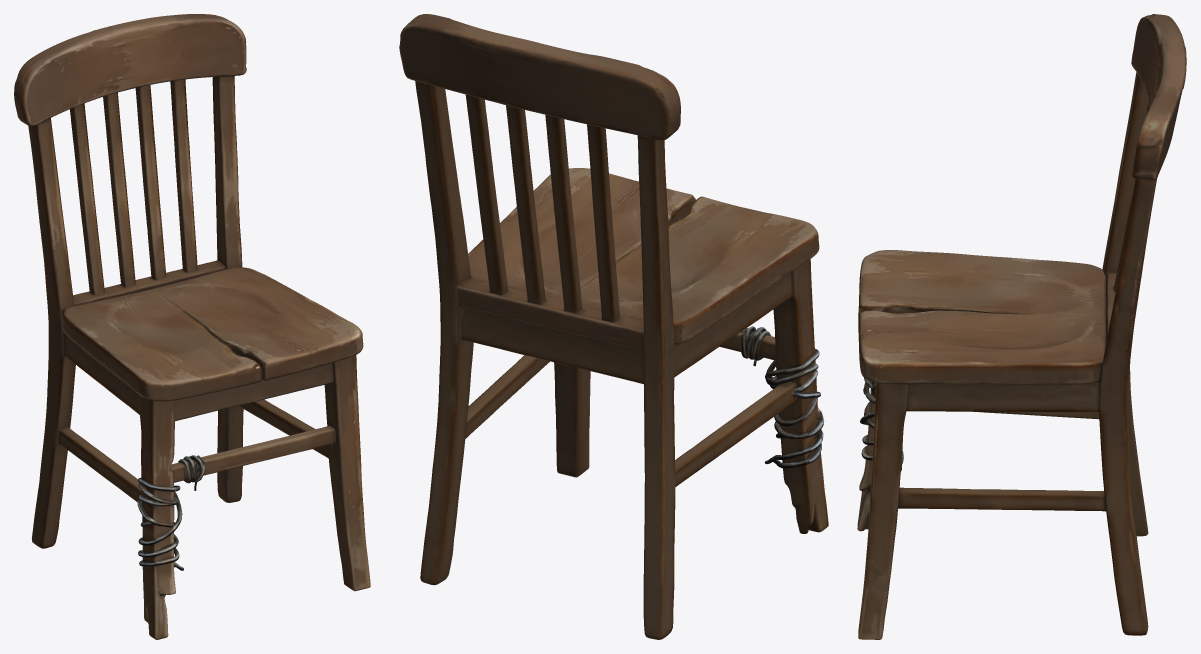
Rendered from silo81_chair.glb.
3 renders of one model, left to right at view 1: azimuth 30°, elevation 25°; view 2: azimuth 150°, elevation 25°; view 3: azimuth 270°, elevation 25°, orthographic. The views are drawn at different scales.
Parts seen in each view (by area): view 1: tripo_node_c436cc92-e9ef-4593-9ef1-048e3b7dbd49; view 2: tripo_node_c436cc92-e9ef-4593-9ef1-048e3b7dbd49; view 3: tripo_node_c436cc92-e9ef-4593-9ef1-048e3b7dbd49.
Boxes of the visible parts, left/top/right/bottom form: tripo_node_c436cc92-e9ef-4593-9ef1-048e3b7dbd49: left=14, top=14, right=370, bottom=639; tripo_node_c436cc92-e9ef-4593-9ef1-048e3b7dbd49: left=399, top=14, right=828, bottom=639; tripo_node_c436cc92-e9ef-4593-9ef1-048e3b7dbd49: left=857, top=14, right=1186, bottom=639.
Size of the model in its own units: 0.4791 by 0.9798 by 0.5544.
1 material, 1 textured.
